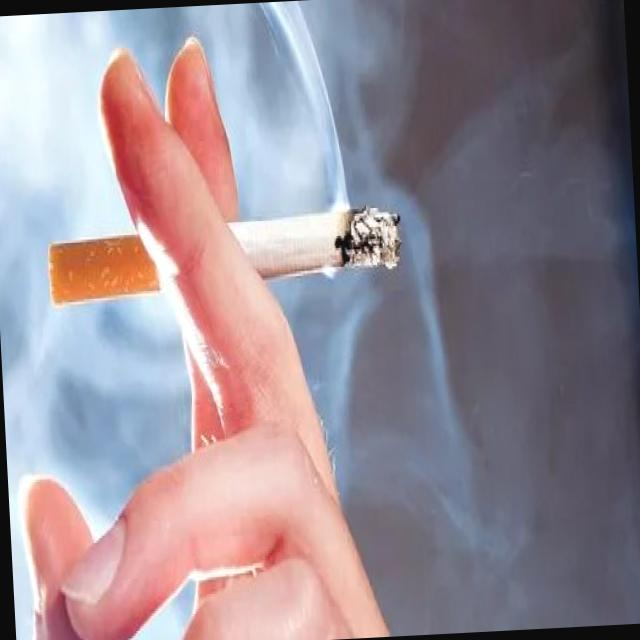smoke: (42, 200, 408, 316)
